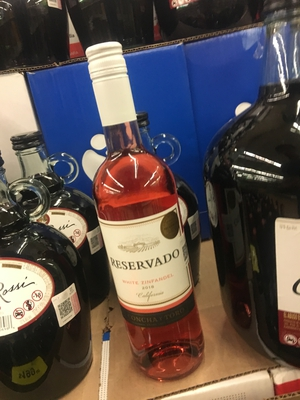reservado white zinfandel: (76, 44, 206, 387)
